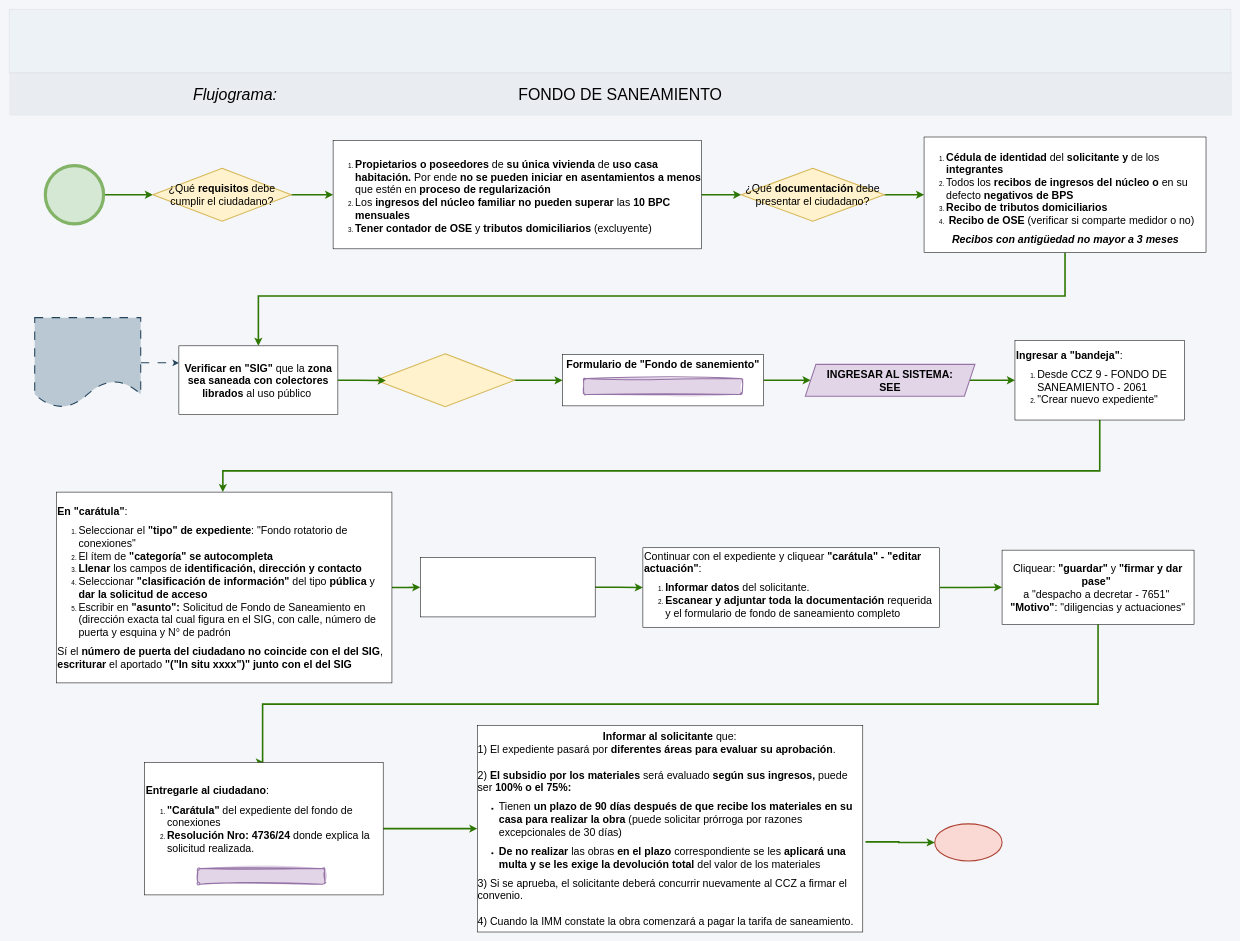
The diagram is 1240 pixels wide and 941 high, and some of its shapes have lost their labels. Here are the shapes that lost their labels. From the top down, the box of each, then its label:
(43, 164, 105, 225): INICIO
(34, 317, 141, 408): ¿Cómo verificar que es una zona saneada? (ver procedimiento)
(375, 353, 515, 407): ¿Qué formulario deben completar?
(583, 378, 743, 395): LINK AL FORMULARIO
(420, 557, 595, 617): Cliquear "guardar" y copiar el número de expediente
(934, 823, 1002, 861): FIN
(197, 868, 325, 885): Resolución Nro. 4736/24
